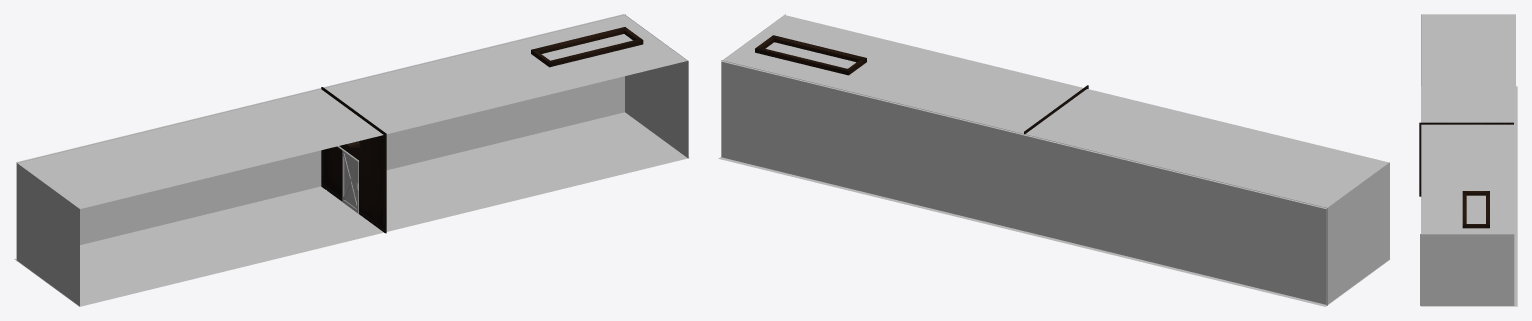
Rendered from New_CarriageShell_Ringmaster.fbx.
3 renders of one model, left to right at view 1: azimuth 30°, elevation 25°; view 2: azimuth 150°, elevation 25°; view 3: azimuth 270°, elevation 25°, orthographic. The views are drawn at different scales.
Parts seen in each view (by area): view 1: Ground_Floorboards5, Ground_Floorboards6, Backwall_NoWindow8, Backwall_NoWindow9, Sidewall10, Sidewall13, Lvl8WALL, Frame, CeilingPiece_Modular167, CeilingPiece_Modular133, CeilingPiece_Modular134, CeilingPiece_Modular137 (+41 smaller); view 2: Backwall_NoWindow9, Backwall_NoWindow8, Sidewall10, Frame, Ground_Floorboards5, CeilingPiece_Modular146, CeilingPiece_Modular133, CeilingPiece_Modular135, CeilingPiece_Modular143, CeilingPiece_Modular150, CeilingPiece_Modular136, CeilingPiece_Modular139 (+38 smaller); view 3: Sidewall13, CeilingPiece_Modular132, CeilingPiece_Modular133, CeilingPiece_Modular134, CeilingPiece_Modular135, CeilingPiece_Modular136, CeilingPiece_Modular137, CeilingPiece_Modular138, CeilingPiece_Modular139, CeilingPiece_Modular140, CeilingPiece_Modular141, CeilingPiece_Modular142 (+37 smaller).
Part boxes in pixels (x1,y1,x2,y2): Ground_Floorboards5: (14,186,382,306); Ground_Floorboards6: (320,112,689,232); Backwall_NoWindow8: (16,89,320,261); Backwall_NoWindow9: (320,14,625,186); Sidewall10: (17,163,79,306); Sidewall13: (625,15,688,158); Lvl8WALL: (321,87,386,233); Frame: (531,27,643,67); CeilingPiece_Modular167: (417,61,493,111); CeilingPiece_Modular133: (293,91,369,141); CeilingPiece_Modular134: (265,98,341,148); CeilingPiece_Modular137: (223,108,300,158); Backwall_NoWindow9: (721,60,1025,231); Backwall_NoWindow8: (1024,134,1327,305); Sidewall10: (1326,162,1389,305); Frame: (755,35,866,75); Ground_Floorboards5: (1023,231,1389,306); CeilingPiece_Modular146: (1244,142,1320,192); CeilingPiece_Modular133: (1037,92,1114,141); CeilingPiece_Modular135: (1078,102,1155,151); CeilingPiece_Modular143: (1203,132,1279,182); CeilingPiece_Modular150: (1285,152,1361,202); CeilingPiece_Modular136: (1092,105,1168,155); CeilingPiece_Modular139: (1134,115,1210,165); Sidewall13: (1420,234,1514,305); CeilingPiece_Modular132: (1421,109,1515,114); CeilingPiece_Modular133: (1421,114,1515,119); CeilingPiece_Modular134: (1421,104,1515,109); CeilingPiece_Modular135: (1421,99,1515,104); CeilingPiece_Modular136: (1421,94,1515,99); CeilingPiece_Modular137: (1421,89,1515,94); CeilingPiece_Modular138: (1421,84,1515,89); CeilingPiece_Modular139: (1421,79,1515,84); CeilingPiece_Modular140: (1421,74,1515,79); CeilingPiece_Modular141: (1421,69,1515,74); CeilingPiece_Modular142: (1421,64,1515,69).
Bounding box in the file's own units: 219 × 35.65 × 41.44.
